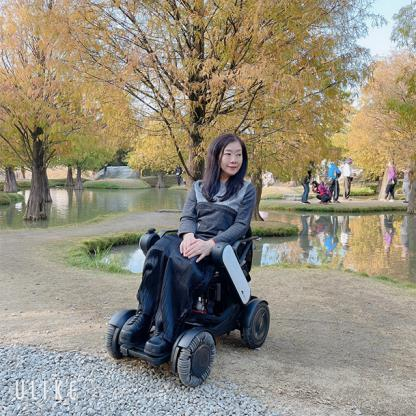wheelchair: (116, 134, 272, 392)
